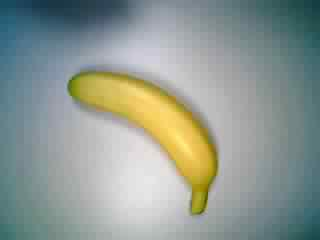banana: (65, 67, 224, 215)
